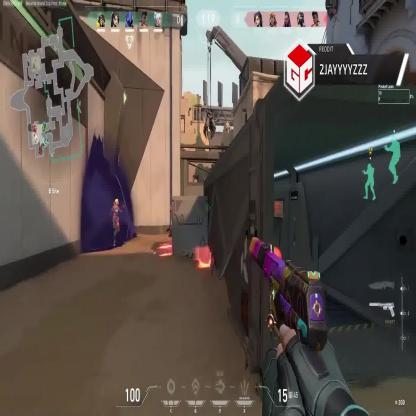enemy: (110, 198, 124, 246)
enemy_head: (114, 198, 119, 206)
